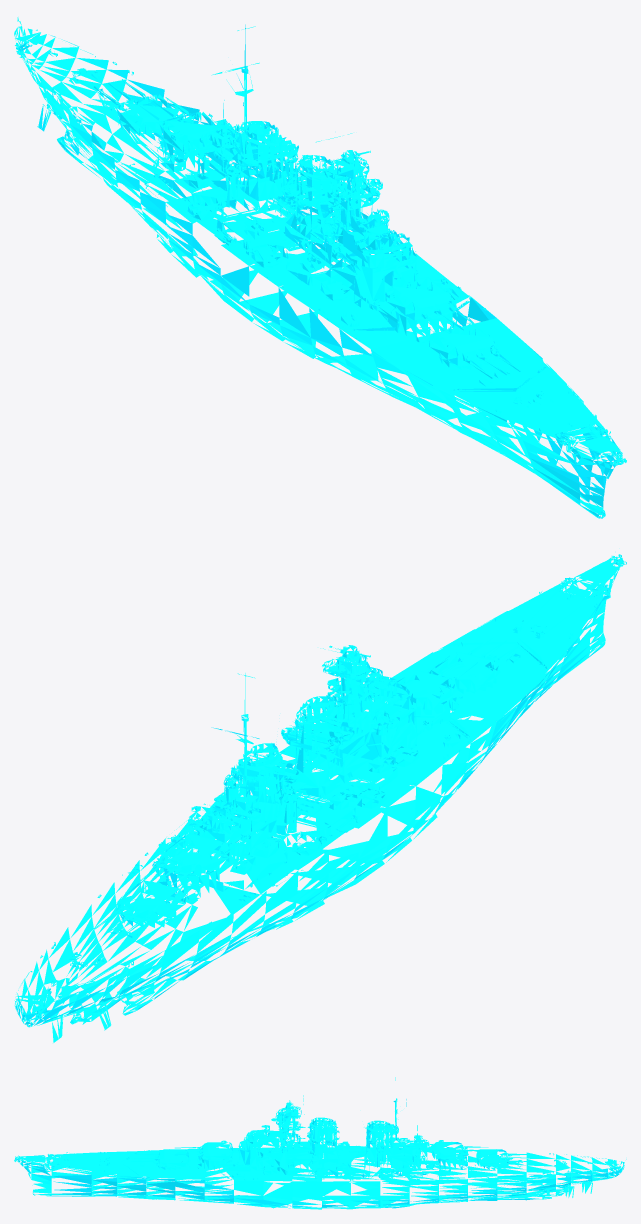
File: PGSB509.glb
3 views of the same model, one above another, from view 1: azimuth 30°, elevation 25°; view 2: azimuth 150°, elevation 25°; view 3: azimuth 270°, elevation 25° (orthographic). The views are drawn at different scales.
Visible parts, largest first — view 1: hull, turret; view 2: hull, turret; view 3: hull, turret.
Boxes of the visible parts, x1=… form: hull: x1=14, y1=17, x2=626, y2=518; turret: x1=94, y1=79, x2=520, y2=378; hull: x1=14, y1=554, x2=626, y2=1042; turret: x1=94, y1=636, x2=521, y2=936; hull: x1=14, y1=1077, x2=626, y2=1209; turret: x1=131, y1=1114, x2=534, y2=1180.
Size of the model in its own units: 2.46 by 4.12 by 18.59.
